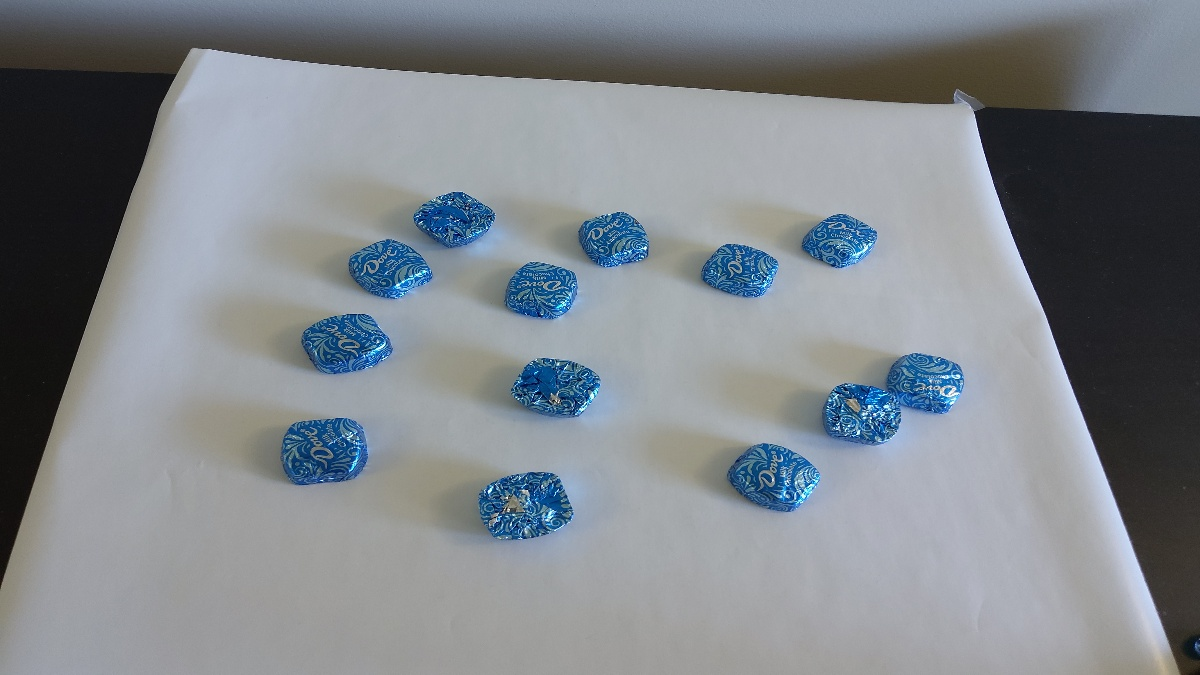chocolate_blue: (723, 438, 832, 526), (474, 462, 580, 545), (508, 355, 609, 431), (293, 306, 396, 378), (280, 414, 376, 488), (882, 348, 974, 422), (815, 377, 910, 447), (800, 208, 888, 278), (344, 236, 435, 303), (411, 183, 497, 253), (696, 239, 784, 303), (501, 261, 583, 322), (576, 209, 652, 271)
